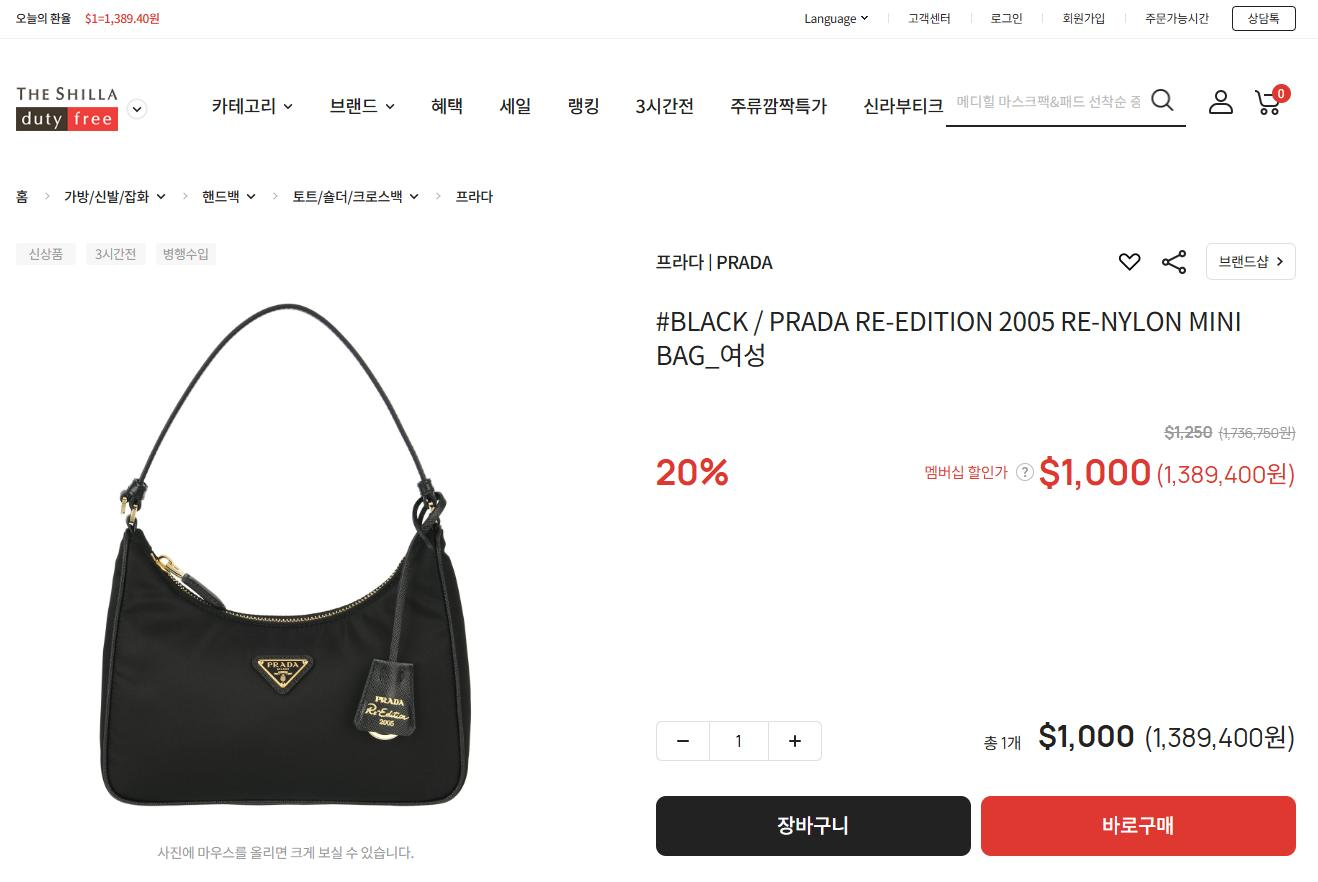button: (985, 785, 1298, 854), (654, 795, 970, 856), (648, 725, 826, 758), (1208, 244, 1305, 281), (856, 82, 941, 118), (729, 88, 814, 120), (1238, 1, 1298, 35), (621, 93, 706, 116), (1131, 4, 1208, 29), (425, 89, 485, 116), (908, 1, 964, 28), (1254, 80, 1296, 115), (1046, 10, 1116, 30), (495, 95, 549, 119), (978, 5, 1030, 29), (559, 94, 608, 119), (1206, 84, 1238, 116), (1160, 244, 1195, 273), (1109, 251, 1143, 278)
checkbox: (284, 184, 429, 208), (199, 88, 309, 119), (63, 184, 168, 208), (326, 90, 406, 121), (801, 10, 881, 29), (196, 190, 264, 208)
input_field: (956, 84, 1188, 128)
